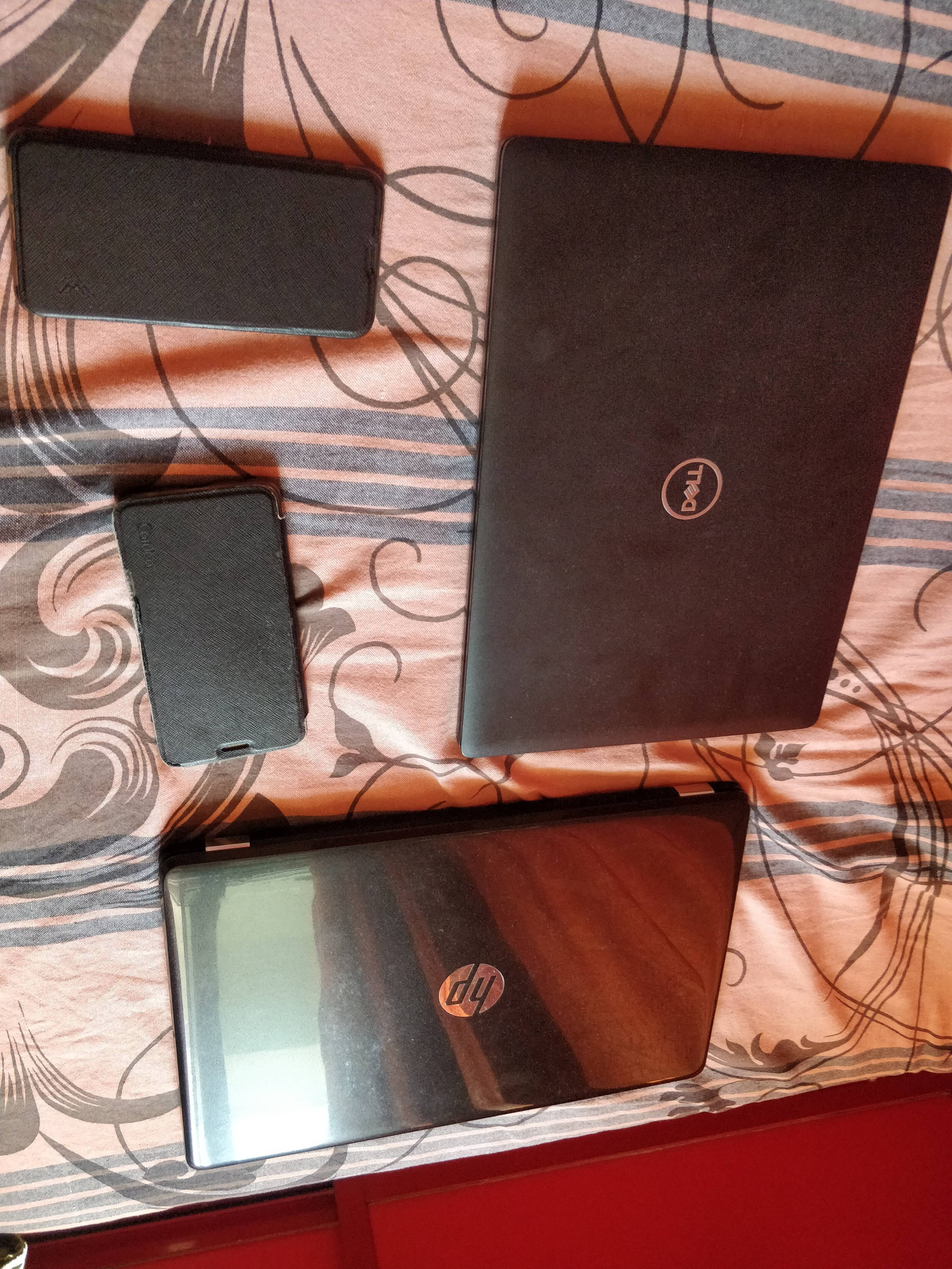Electronics: (436, 115, 952, 786), (144, 772, 786, 1175), (0, 116, 398, 361), (95, 451, 315, 774)
